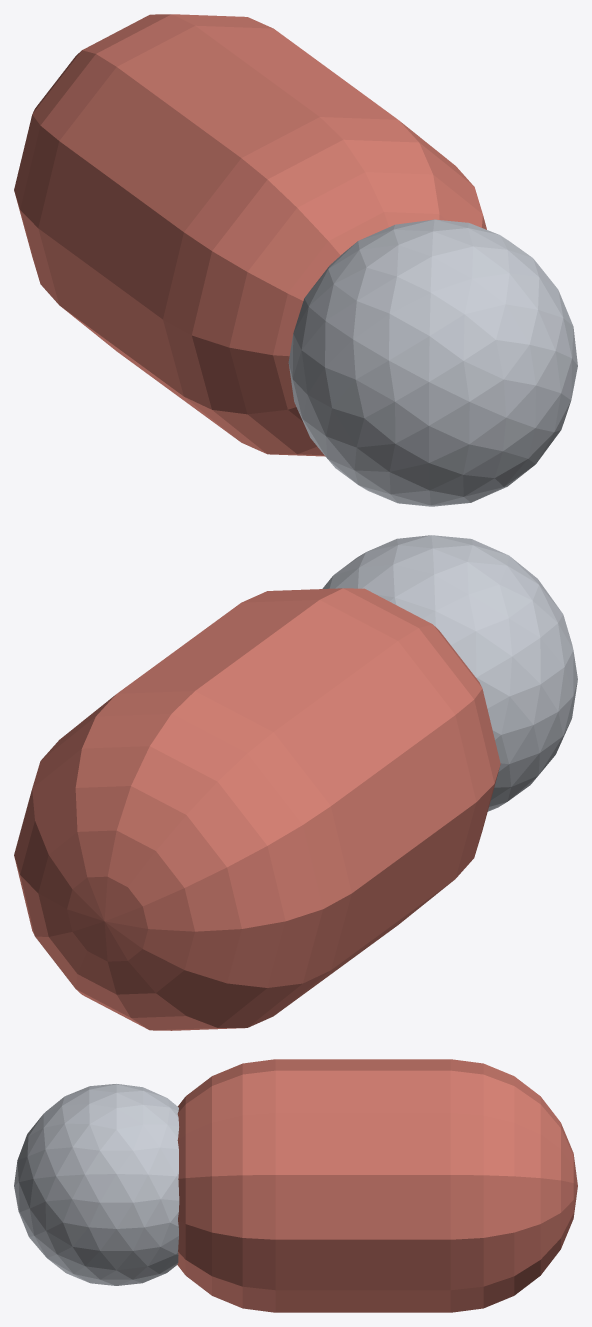
File: soldier.glb
The picture shows the model from 3 angles, top to bottom: view 1: azimuth 30°, elevation 25°; view 2: azimuth 150°, elevation 25°; view 3: azimuth 270°, elevation 25°; orthographic projection. The views are drawn at different scales.
Parts seen in each view (by area): view 1: geometry_0; view 2: geometry_0; view 3: geometry_0.
Boxes of the visible parts, x1,y1,x2,y2 form: geometry_0: (14,14,577,506); geometry_0: (14,535,577,1030); geometry_0: (14,1059,577,1312).
Size of the model in its own units: 0.8 by 0.8 by 1.77.
